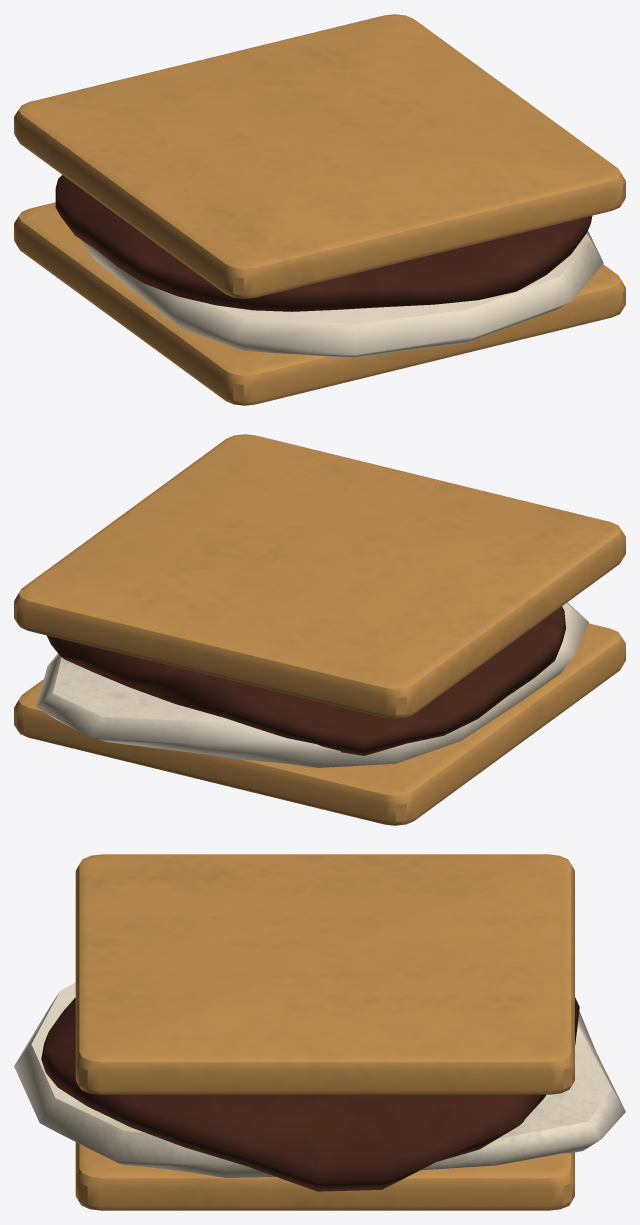
Rendered from SM_Smore.fbx.
3 renders of one model, top to bottom at view 1: azimuth 30°, elevation 25°; view 2: azimuth 150°, elevation 25°; view 3: azimuth 270°, elevation 25°, orthographic. The views are drawn at different scales.
Visible parts, largest first — view 1: Smores; view 2: Smores; view 3: Smores.
Boxes of the visible parts, x1,y1,x2,y2 form: Smores: (14,14,625,405); Smores: (14,434,625,825); Smores: (14,854,625,1210).
Bounding box in the file's own units: 15.1 × 4.58 × 16.53.
